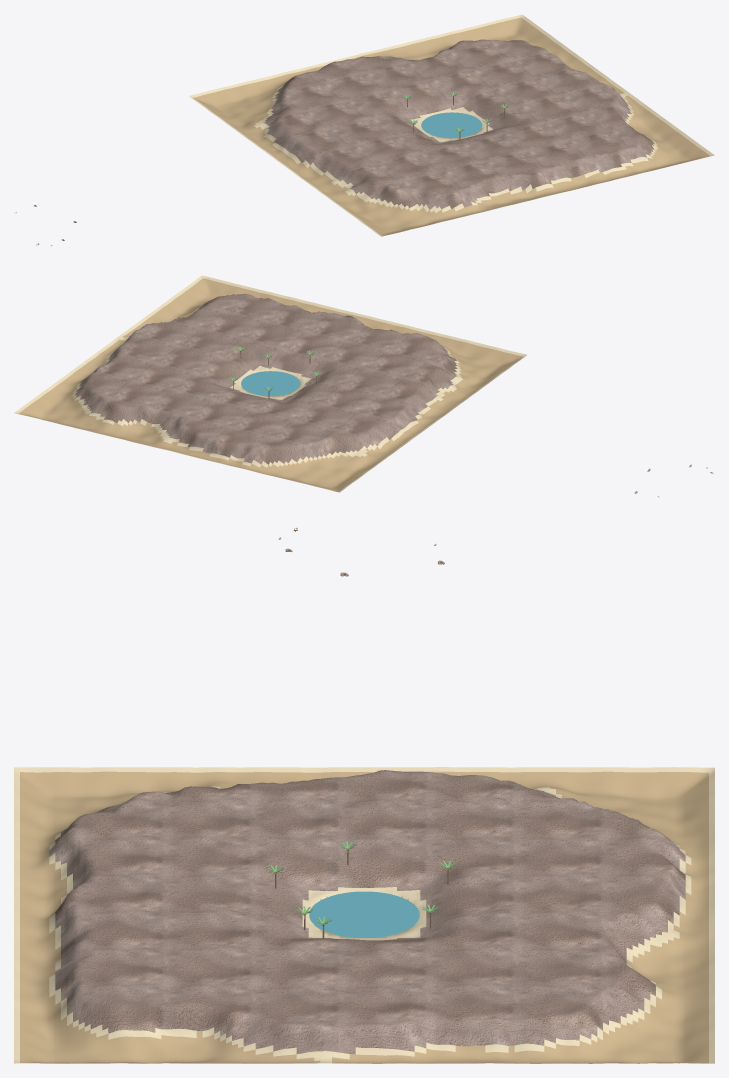
File: terrain_desert_oasis_hd.glb
3 views of the same model, one above another, from view 1: azimuth 30°, elevation 25°; view 2: azimuth 150°, elevation 25°; view 3: azimuth 270°, elevation 25° (orthographic). The views are drawn at different scales.
Parts seen in each view (by area): view 1: OasisBase, OasisWater; view 2: OasisBase, OasisWater; view 3: OasisBase, OasisWater.
Boxes of the visible parts, x1,y1,x2,y2 form: OasisBase: [189, 14, 714, 236]; OasisWater: [421, 112, 482, 138]; OasisBase: [14, 275, 526, 492]; OasisWater: [241, 371, 300, 396]; OasisBase: [14, 767, 714, 1063]; OasisWater: [309, 891, 419, 937].
Size of the model in its own units: 434 by 18.26 by 240.
8 materials, 1 textured.
